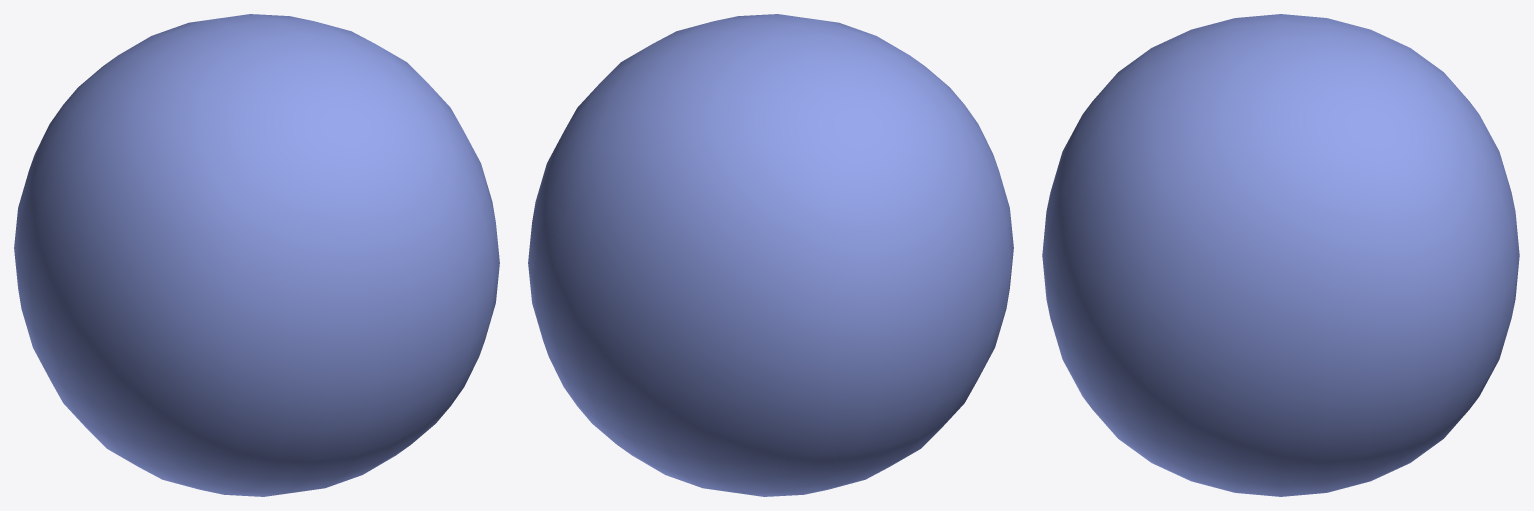
Rendered from foodblue.fbx.
3 views of the same model, side by side, from view 1: azimuth 30°, elevation 25°; view 2: azimuth 150°, elevation 25°; view 3: azimuth 270°, elevation 25° (orthographic).
Parts seen in each view (by area): view 1: Cube.001; view 2: Cube.001; view 3: Cube.001.
Part boxes in pixels (box(x1,y1,x2,y2)): Cube.001: box(14, 14, 499, 496); Cube.001: box(528, 14, 1013, 496); Cube.001: box(1042, 14, 1519, 496).
Bounding box in the file's own units: 443 × 443 × 443.
